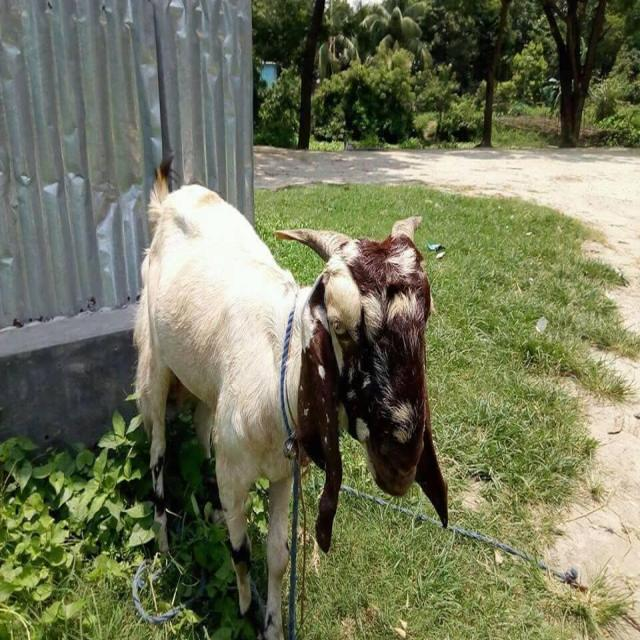Goat: (131, 152, 449, 638)
